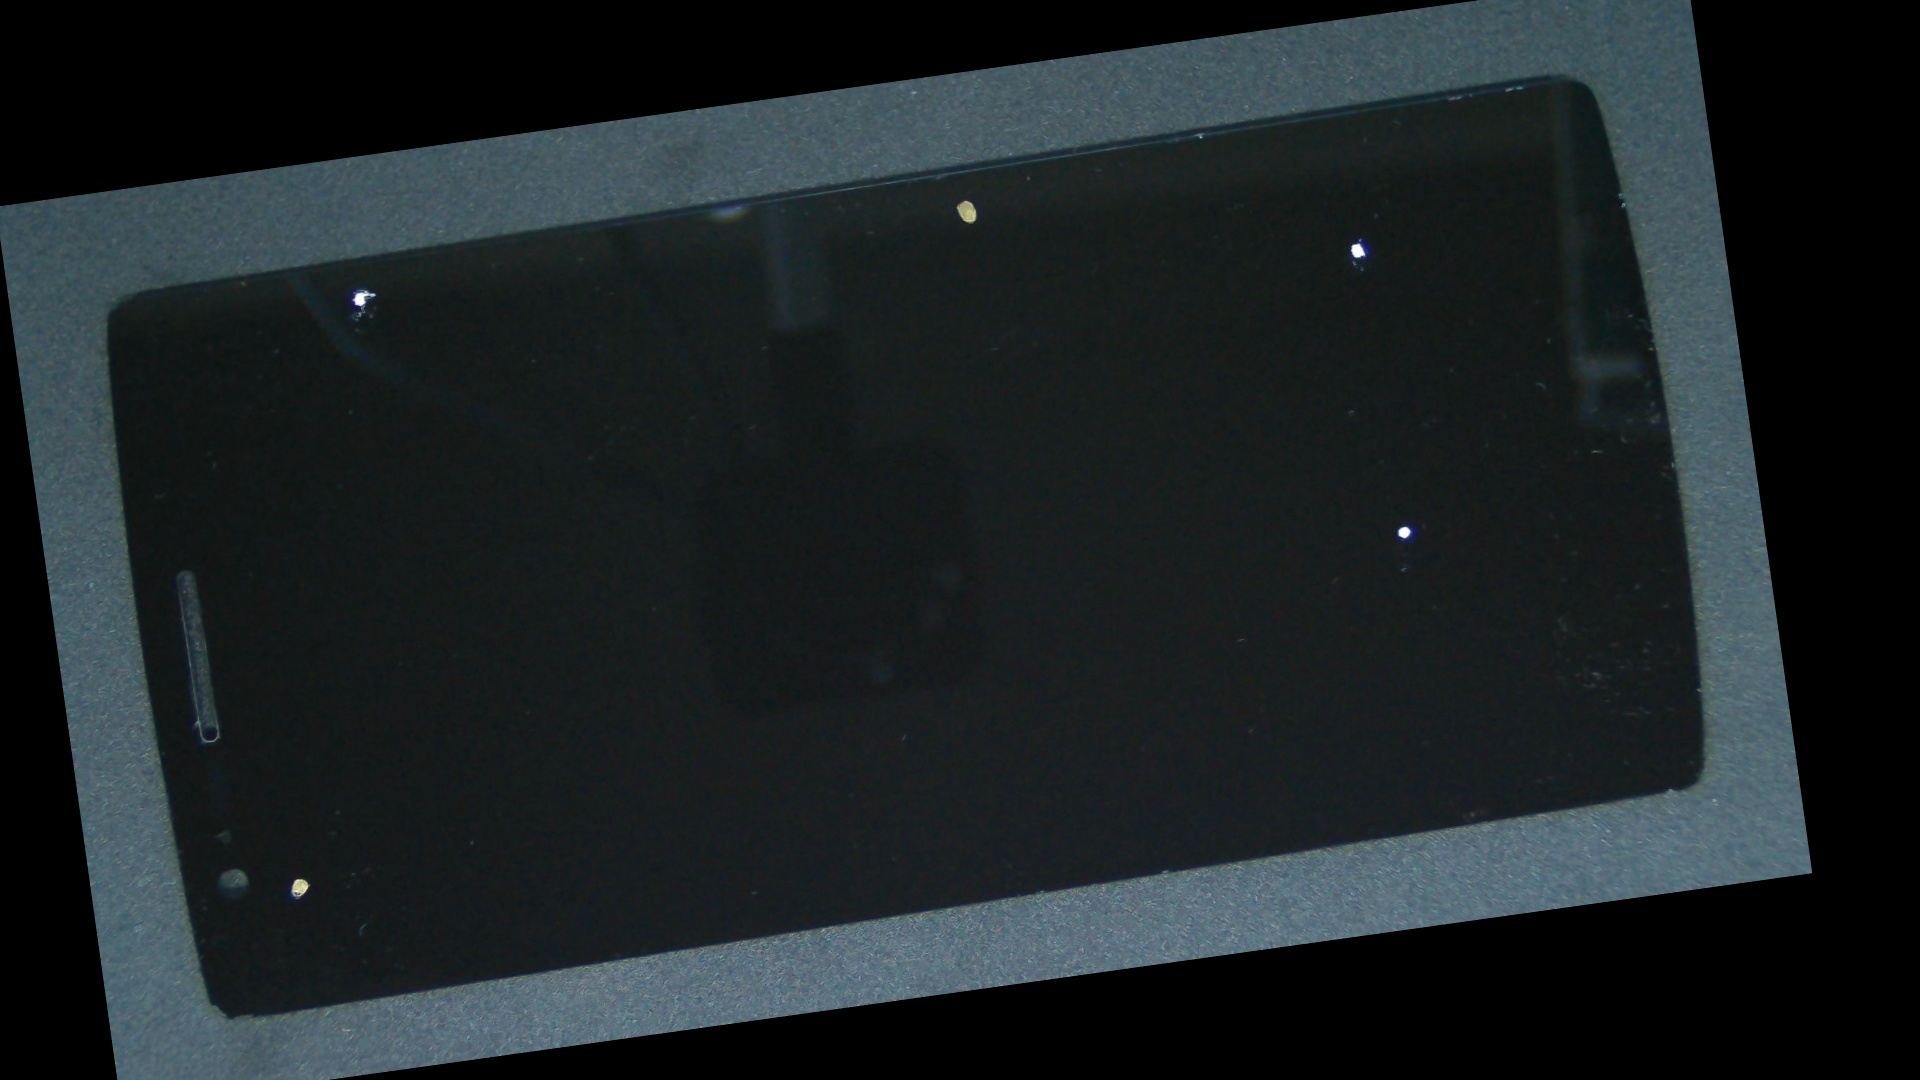oil: (702, 223, 1792, 870), (678, 80, 1733, 444), (480, 70, 1445, 327), (150, 512, 436, 1080), (175, 200, 534, 378)
